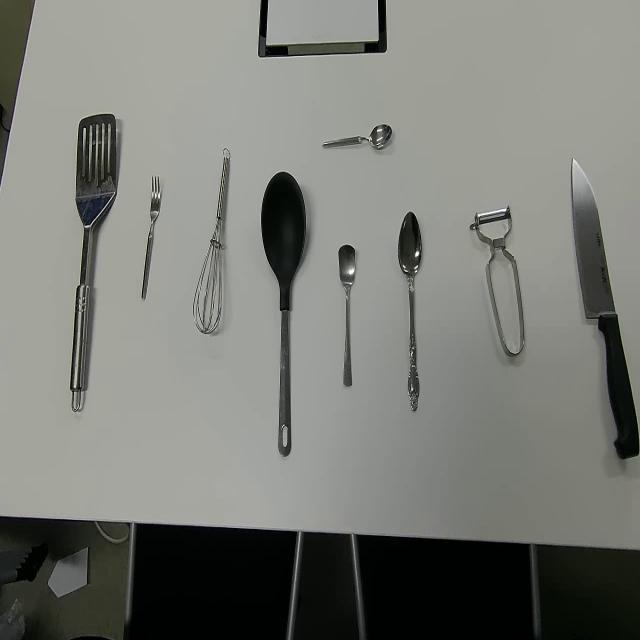Desert-Spoon: (398, 209, 423, 412)
Dinner-Fork: (140, 174, 161, 302)
Kitchen-Knife: (570, 155, 640, 460)
Peeler: (469, 204, 525, 358)
Serving-Spoon: (70, 110, 118, 412), (260, 170, 306, 460)
Tea-Spoon: (337, 242, 356, 388), (322, 123, 392, 152)
Whisk: (192, 146, 230, 336)
